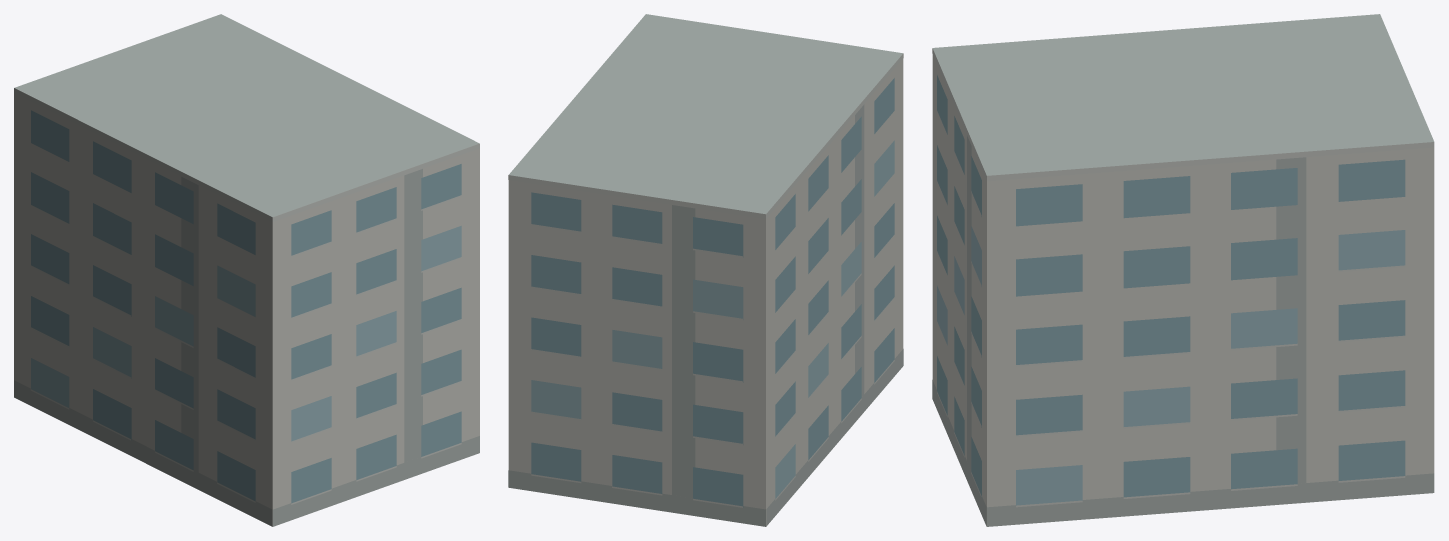
The model's file is residential-c8a03cb1-4108-437a-8c7c-b6de57cf51d2.glb.
3 renders of one model, left to right at view 1: azimuth 30°, elevation 25°; view 2: azimuth 150°, elevation 25°; view 3: azimuth 270°, elevation 25°, orthographic. The views are drawn at different scales.
Parts seen in each view (by area): view 1: residential-c8a03cb1-4108-437a-8c7c-b6de57cf51d2.tmp; view 2: residential-c8a03cb1-4108-437a-8c7c-b6de57cf51d2.tmp; view 3: residential-c8a03cb1-4108-437a-8c7c-b6de57cf51d2.tmp.
Part boxes in pixels (x1,y1,x2,y2): residential-c8a03cb1-4108-437a-8c7c-b6de57cf51d2.tmp: (14,14,479,526); residential-c8a03cb1-4108-437a-8c7c-b6de57cf51d2.tmp: (508,14,903,526); residential-c8a03cb1-4108-437a-8c7c-b6de57cf51d2.tmp: (932,14,1434,526).
Size of the model in its own units: 15.09 by 15.25 by 19.77.
